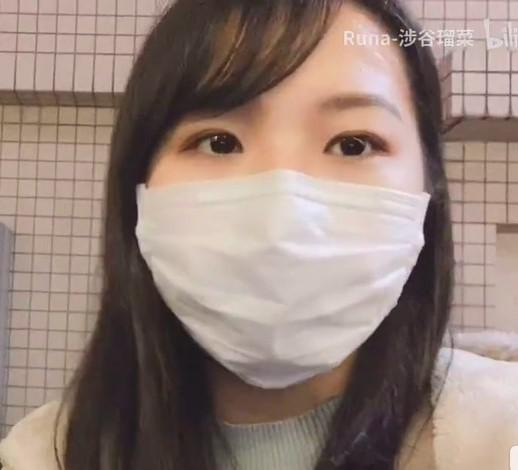OK: (135, 53, 429, 388)
